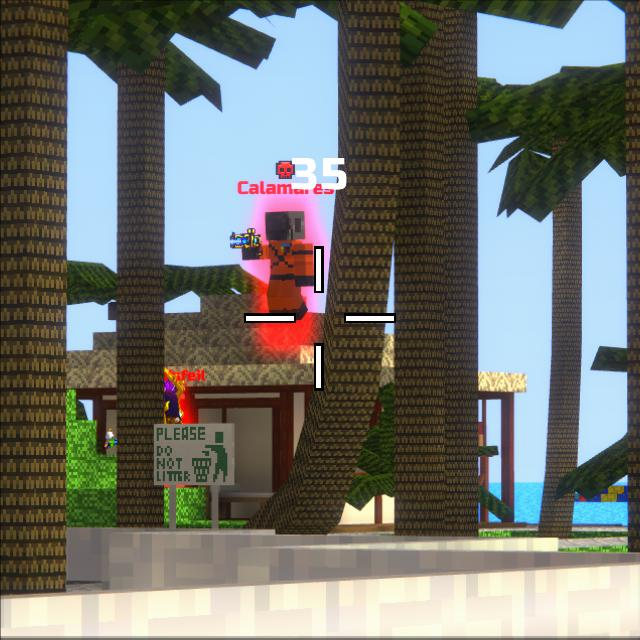Enemy: (243, 209, 317, 319)
